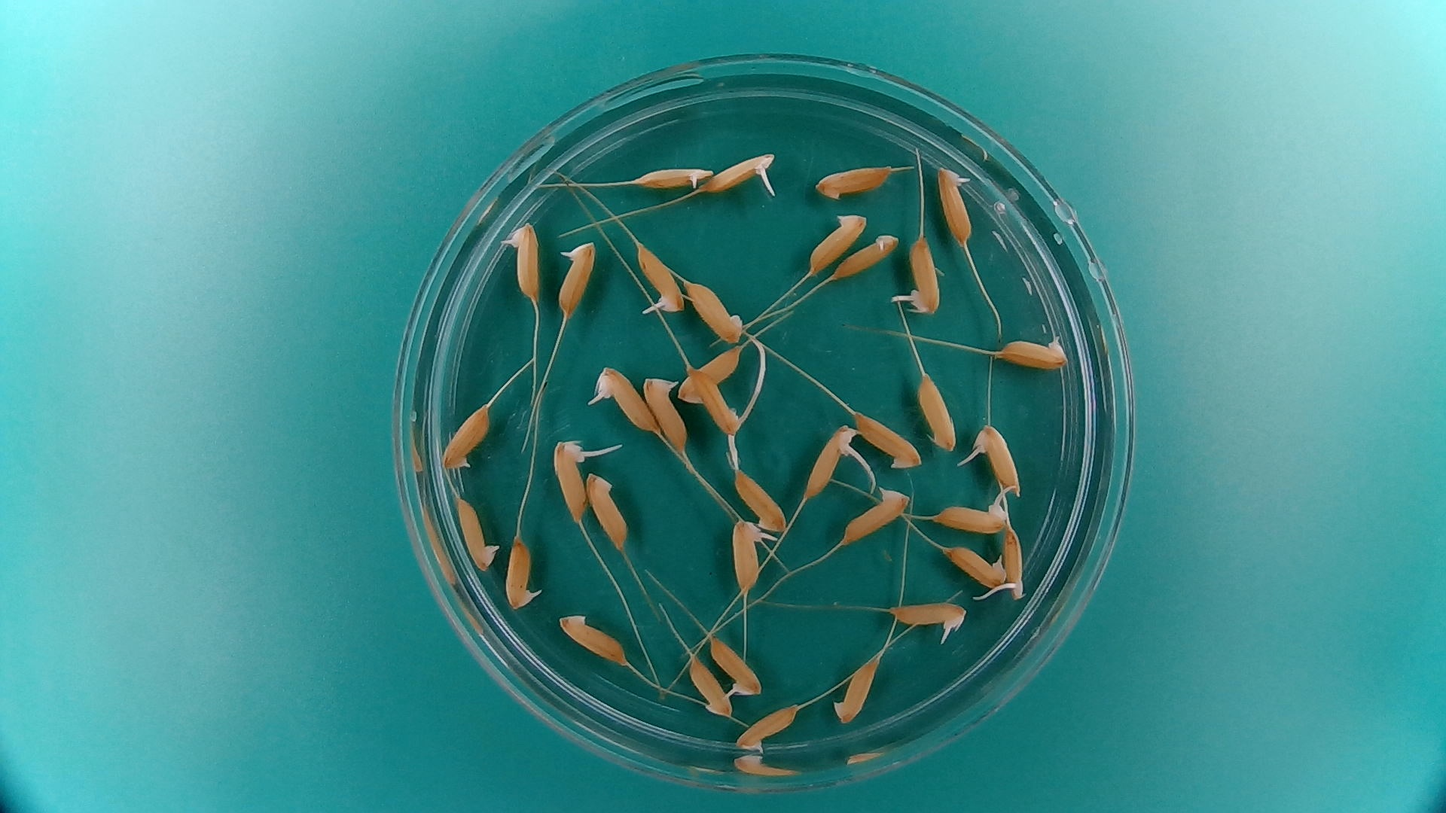no: (840, 481, 913, 544), (676, 344, 746, 407), (685, 277, 747, 345), (440, 400, 496, 475), (806, 209, 869, 273), (856, 411, 924, 470), (733, 466, 792, 534), (641, 372, 689, 455), (557, 612, 628, 668), (453, 493, 501, 572), (585, 470, 630, 552), (811, 160, 898, 201), (917, 370, 959, 452), (734, 702, 799, 754), (832, 231, 902, 279), (832, 659, 878, 726), (685, 654, 733, 714)
yes: (595, 368, 662, 433), (548, 436, 594, 525), (634, 242, 687, 317), (691, 367, 749, 433), (804, 422, 853, 500), (935, 163, 977, 245), (708, 635, 764, 696), (555, 240, 597, 318), (698, 156, 773, 199), (977, 428, 1023, 495), (730, 516, 770, 593), (907, 233, 943, 313), (996, 333, 1070, 371), (504, 227, 541, 303), (943, 544, 1006, 588), (892, 596, 972, 630), (932, 500, 1008, 534), (505, 539, 539, 611), (633, 166, 713, 192), (1002, 525, 1027, 601)
